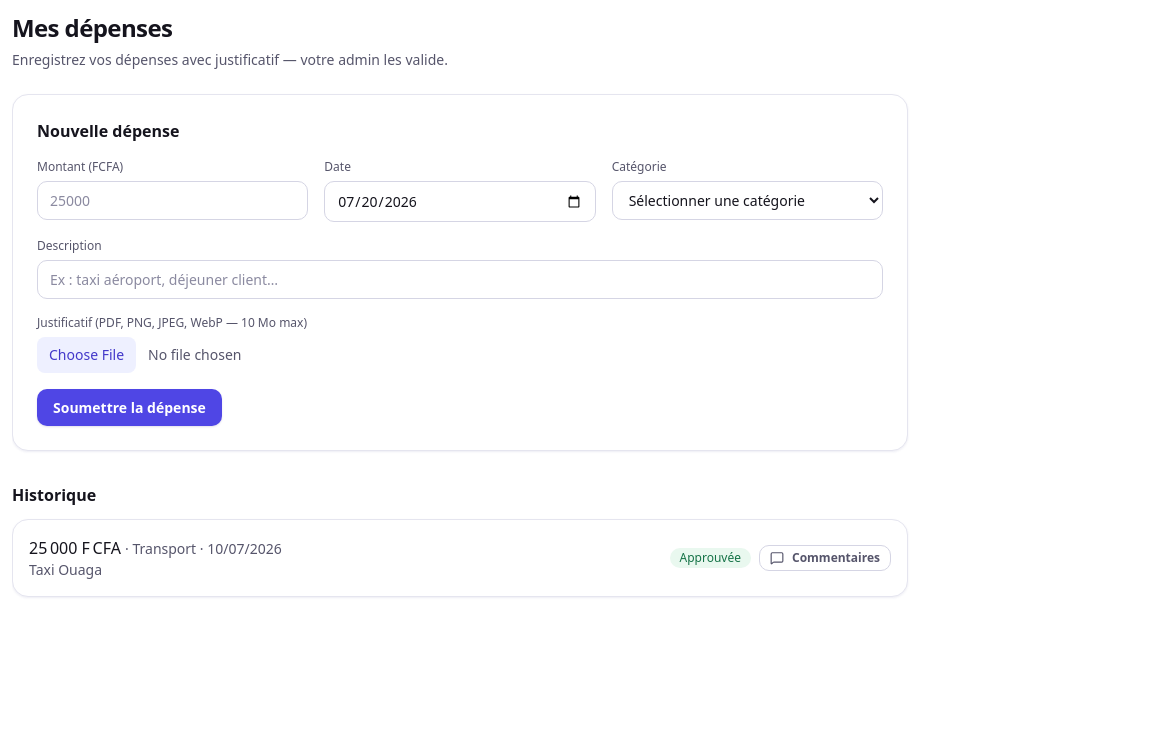
Test: MyExpensesPage › soumet une dépense et affiche la confirmation
The image size is (1164, 732).
Type "5000" into the number field labelled "Montant (FCFA)".
click(173, 200); type("5000")  # box [37,181,308,220]
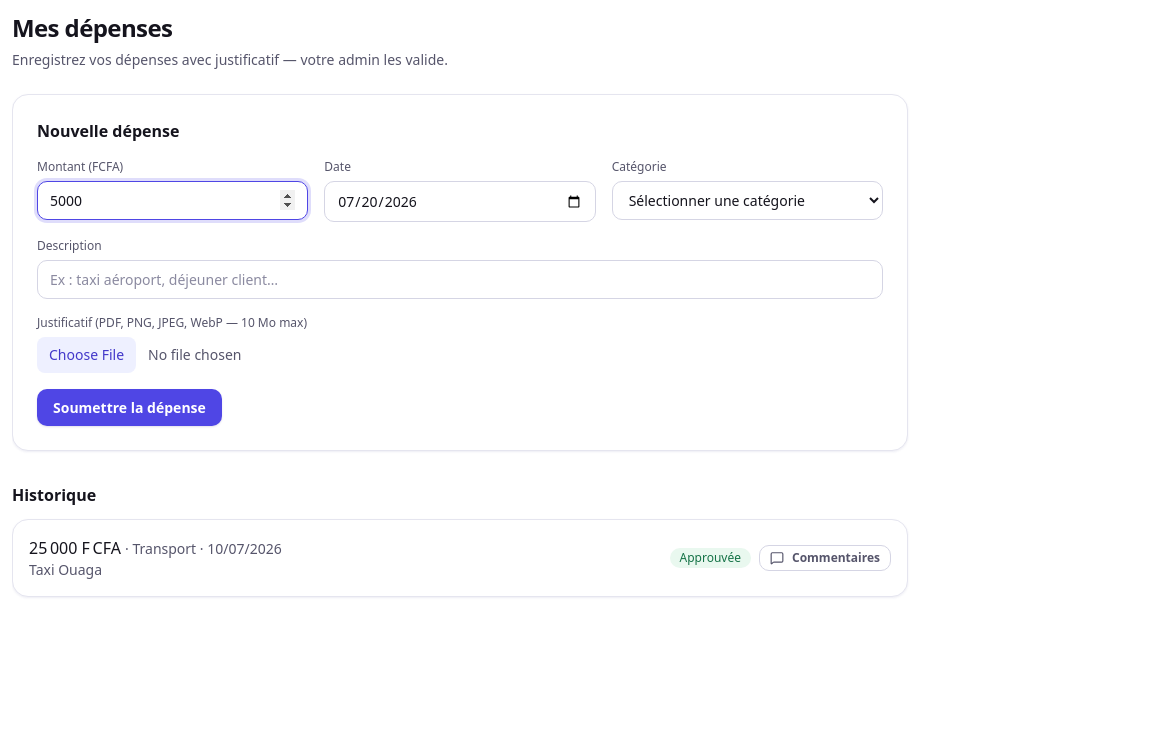
Select "Transport" in the dropdown labelled "Catégorie" at (747, 200), box [612,181,883,220]
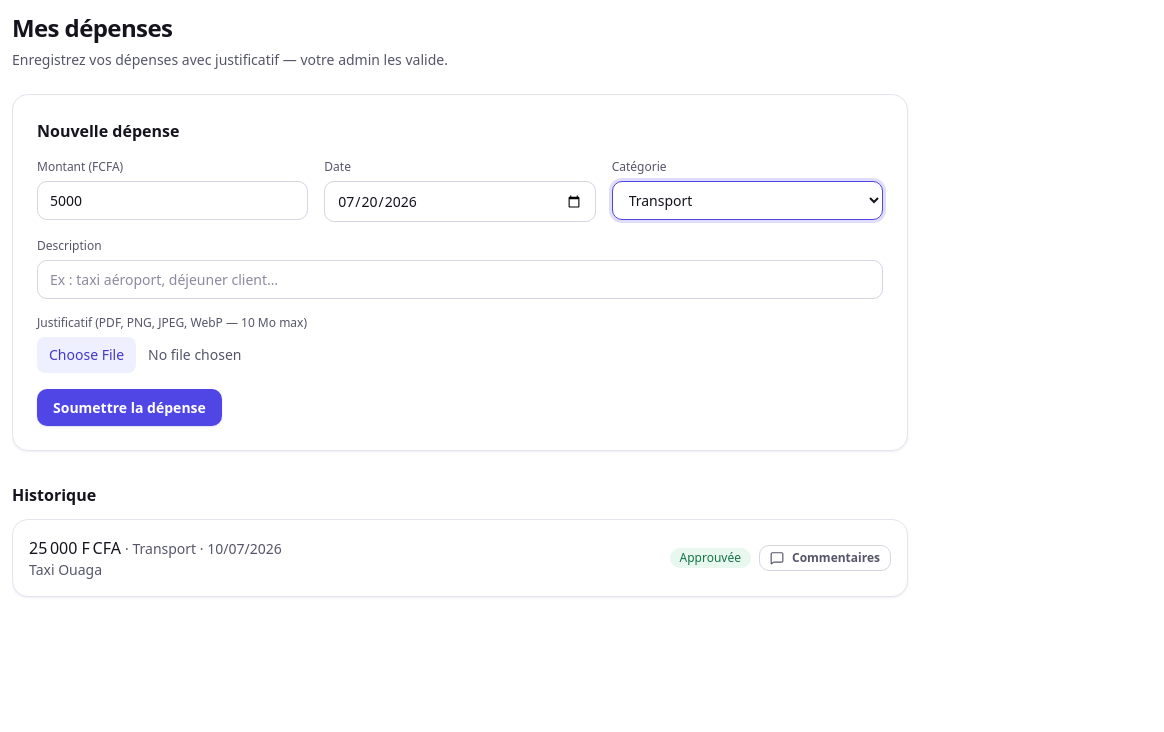
Type "Carburant moto" into the field labelled "Description".
click(460, 280); type("Carburant moto")  # box [37,260,883,299]
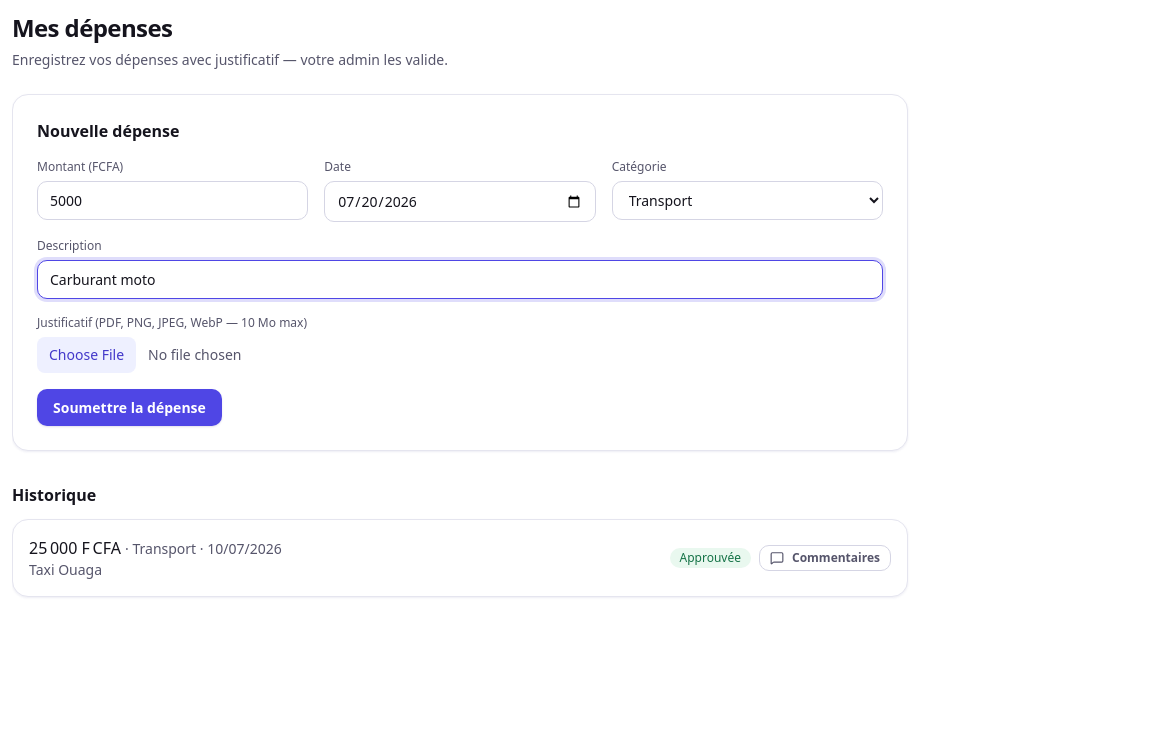
Click the button "Soumettre la dépense".
click(129, 408)  # box [37,389,222,426]
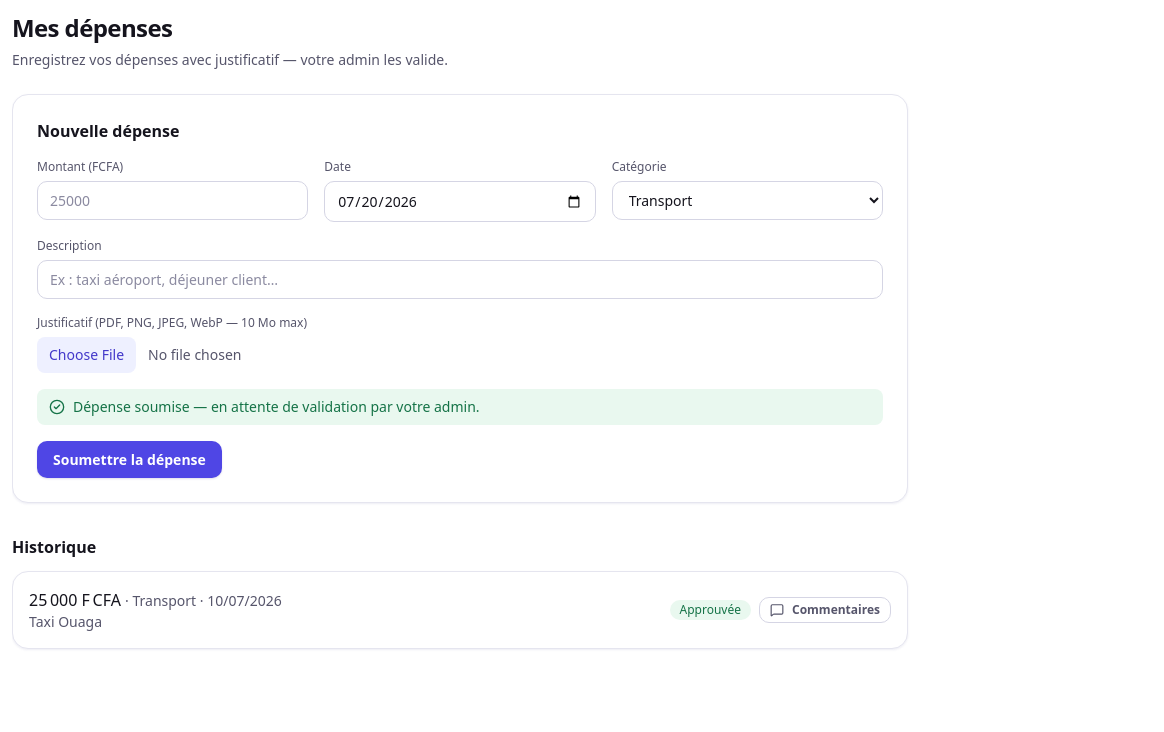
Now the text "Dépense soumise — en attente de validation par votre admin." is shown, box [73,397,480,417]
